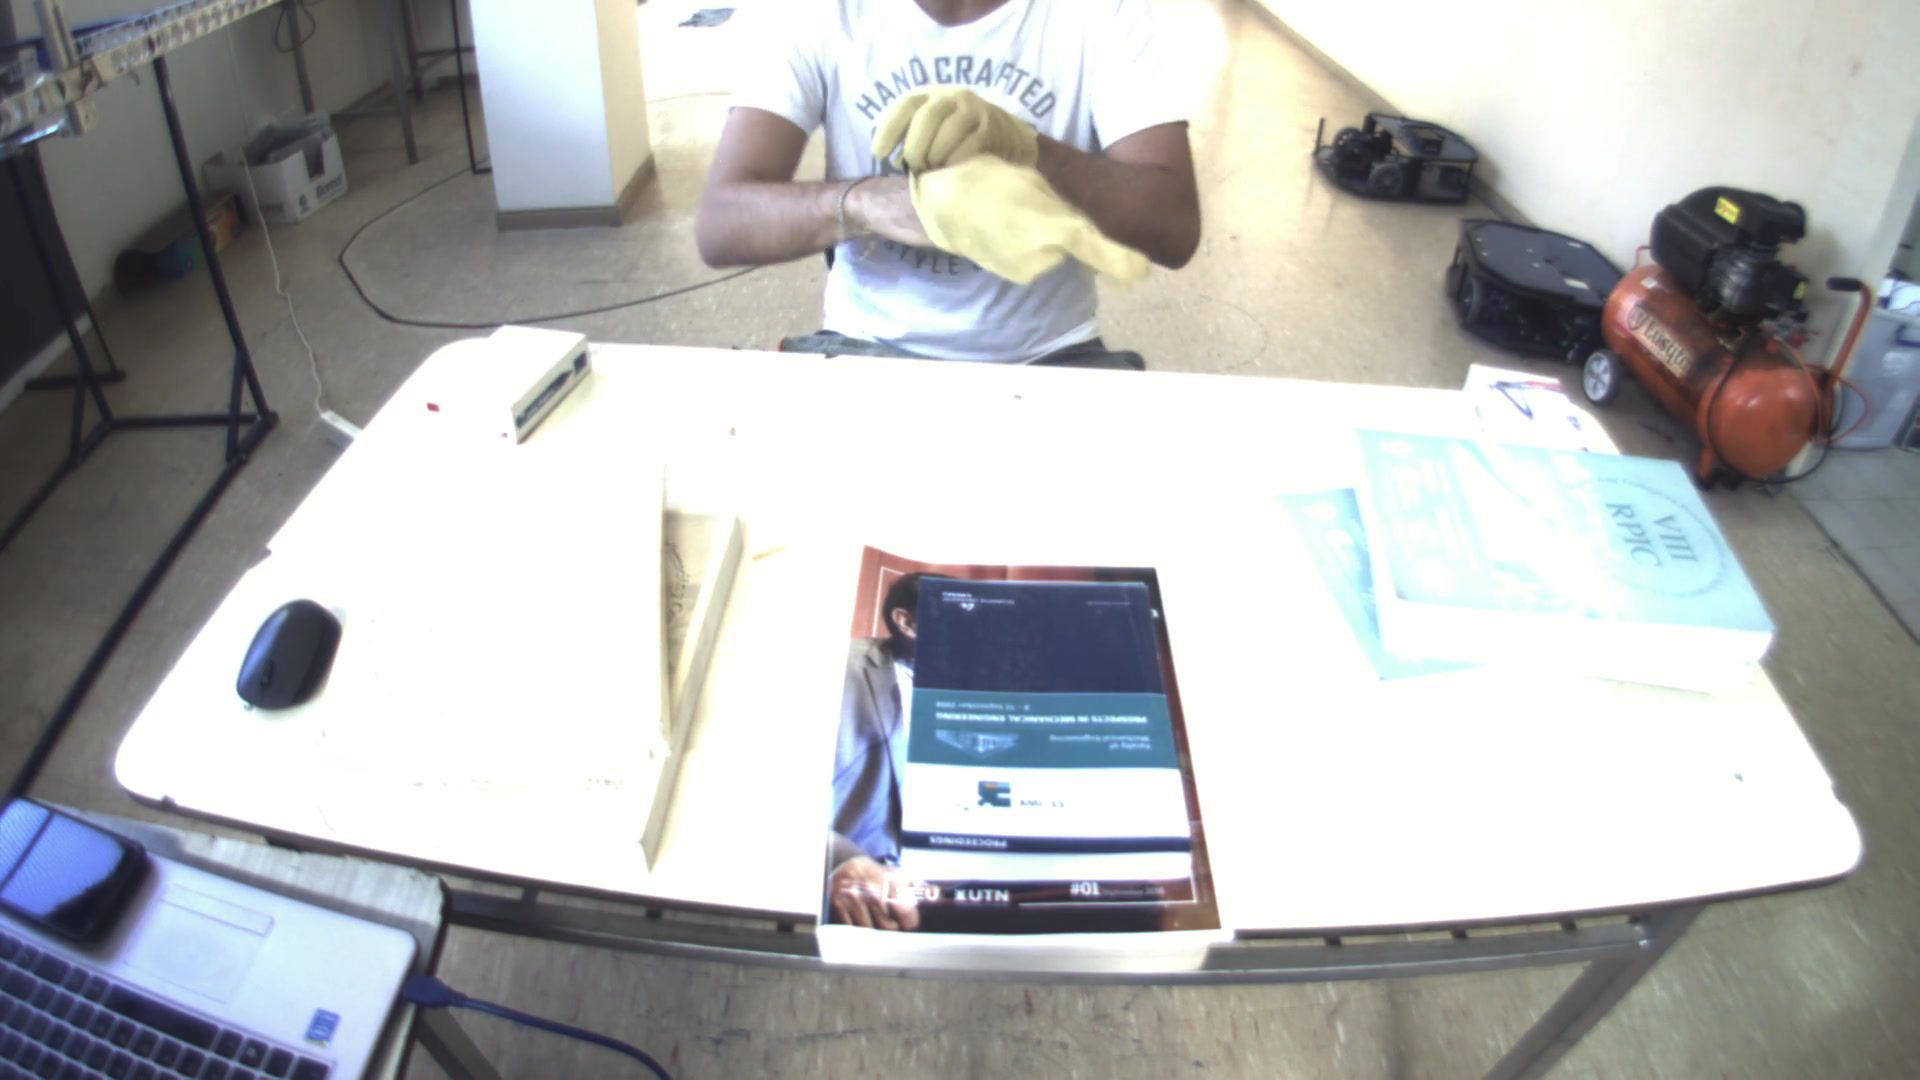hand: (898, 135, 1145, 280), (860, 80, 1034, 167)
